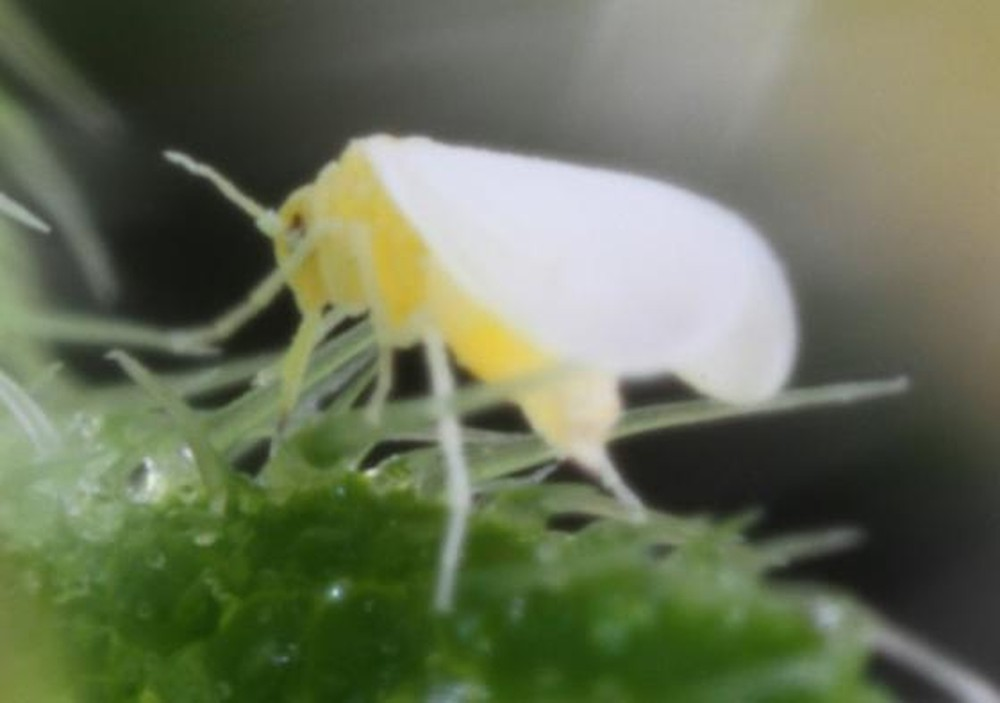Mosca Blanca: (143, 121, 843, 551)
